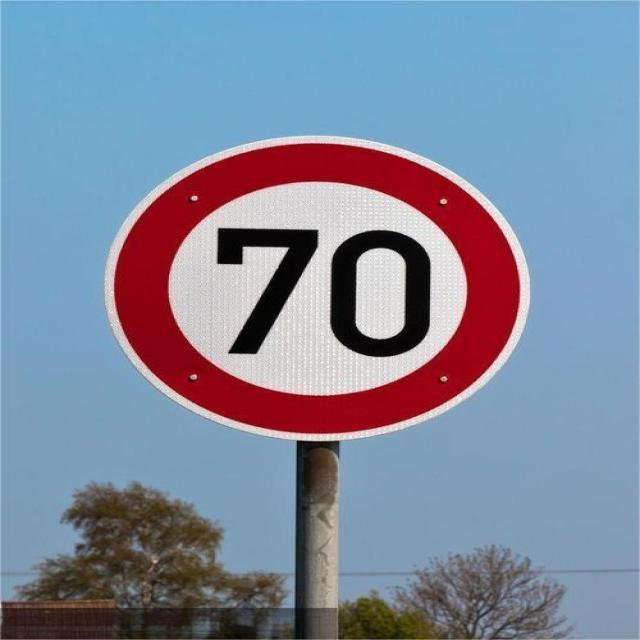speed limit 70: (101, 141, 530, 442)
